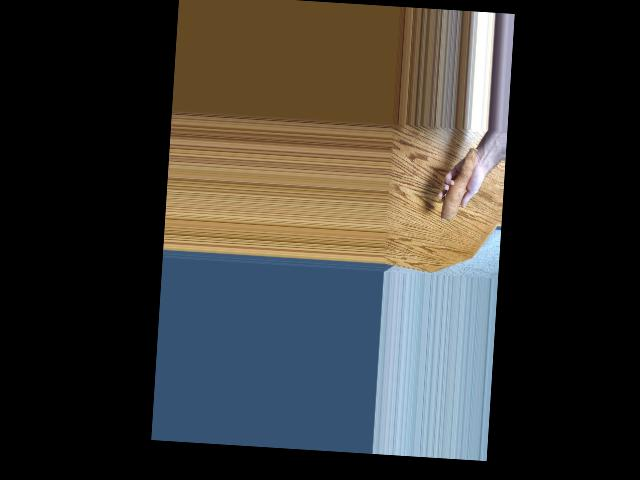sweet_potato: (438, 147, 479, 222)
